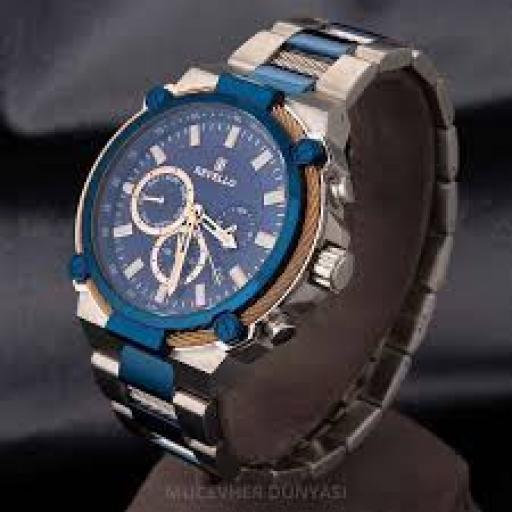KolSaati: (44, 9, 469, 485)
